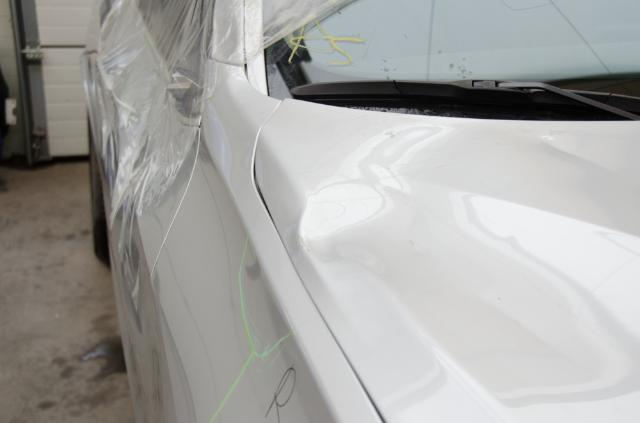dent: (302, 174, 639, 400), (534, 131, 627, 174)
